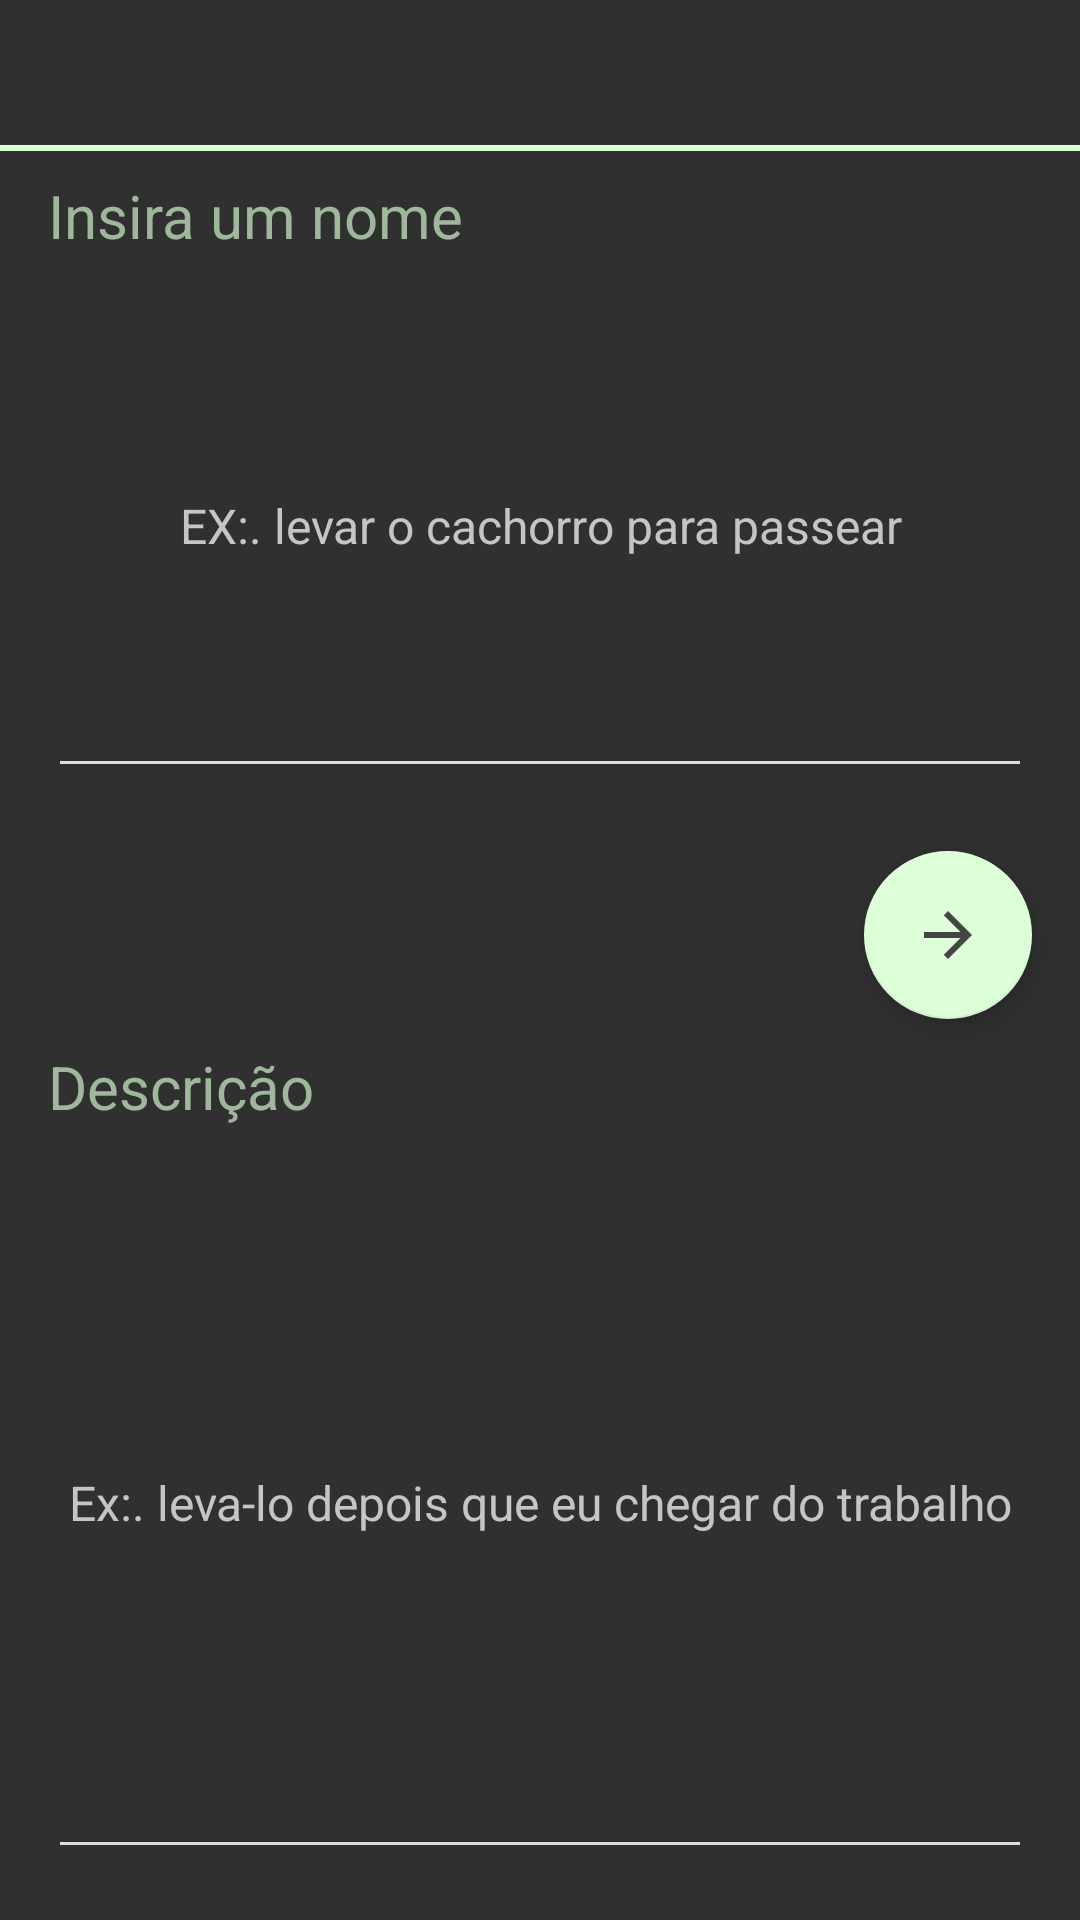

Point at icon controls on the screen. Image size 1080 x 1920, points as (x,y).
arrow proximo: (948,935)
